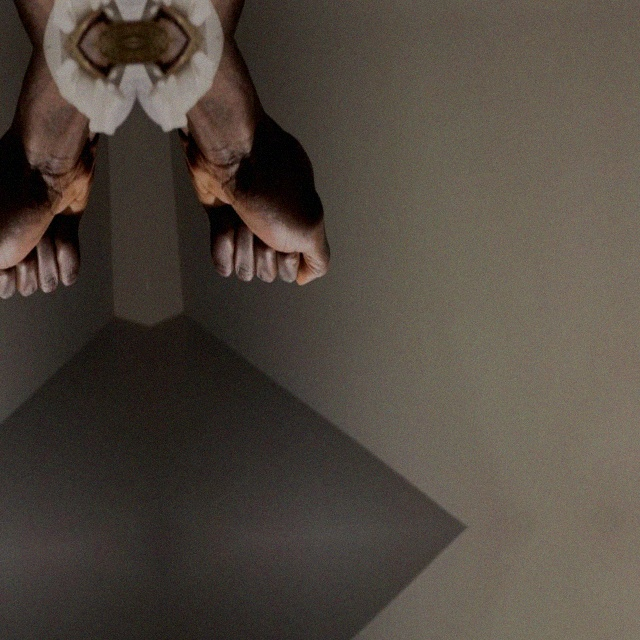Rock: (189, 105, 334, 291)
